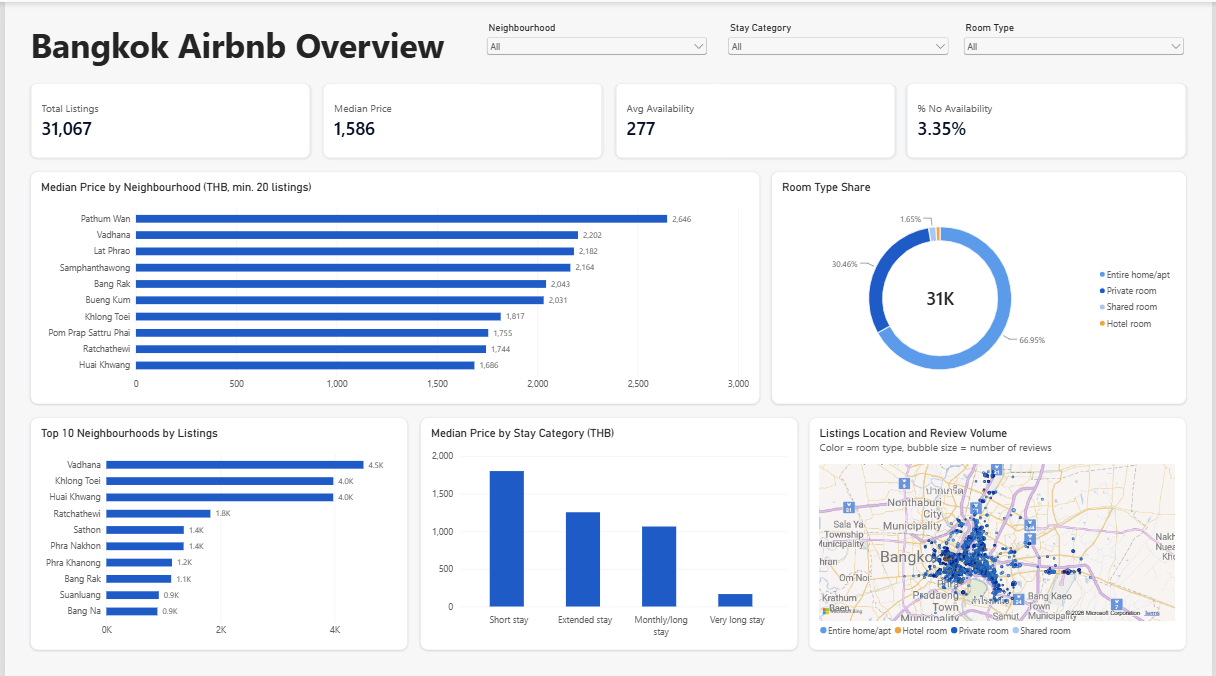

The dashboard page shown, as its layout file describes it:
{"tool":"powerbi","page":{"name":"Page 1","canvas":[1920,1080],"ordinal":0},"visuals":[{"type":"cardVisual","fields":{"Data":["listings_clean.Total Listings (card)"]},"box":[40,130,445,120],"z":0},{"type":"cardVisual","fields":{"Data":["listings_clean.Median Price (card)"]},"box":[505,130,445,120],"z":1000},{"type":"cardVisual","fields":{"Data":["listings_clean.Avg Availability (card)"]},"box":[970,130,445,120],"z":2000},{"type":"cardVisual","fields":{"Data":["listings_clean.% No Availability"]},"box":[1435,130,445,120],"z":3000},{"type":"slicer","fields":{"Values":["listings_clean.neighbourhood"]},"box":[760,30,360,70],"z":4000},{"type":"slicer","fields":{"Values":["listings_clean.stay_category"]},"box":[1145.2,31,360.3,70],"z":5000},{"type":"slicer","fields":{"Values":["listings_clean.room_type"]},"box":[1519.8,31,360.3,70],"z":6000},{"type":"clusteredBarChart","title":"Median Price by Neighbourhood (THB, min. 20 listings)","fields":{"Category":["listings_clean.neighbourhood"],"Y":["listings_clean.Median Price (min 20)"]},"box":[40,270,1160,370],"z":7000},{"type":"clusteredBarChart","title":"Top 10 Neighbourhoods by Listings","fields":{"Category":["listings_clean.neighbourhood"],"Y":["listings_clean.Total Listings"]},"box":[40,660,600,370],"z":8000},{"type":"donutChart","title":"Room Type Share","fields":{"Category":["listings_clean.room_type"],"Y":["listings_clean.Total Listings"]},"box":[1220,270,660,370],"z":9000},{"type":"clusteredColumnChart","title":"Median Price by Stay Category (THB)","fields":{"Category":["listings_clean.stay_category"],"Y":["listings_clean.Median Price"]},"box":[660,660,600,370],"z":10000},{"type":"map","title":"Listings Location and Review Volume","fields":{"Series":["listings_clean.room_type"],"Size":["Sum(listings_clean.number_of_reviews)"],"X":["listings_clean.longitude"],"Y":["listings_clean.latitude"]},"box":[1280,660,600,370],"z":11000},{"type":"textbox","box":[39.7,31.2,703,90.7],"z":12000}]}

Visuals, with their boxes in screenshot pixels (x1, y1, x2, y2), scaled from the page's 1920x1080 canvas onto the 1216x676 screenshot:
cardVisual - listings_clean.Total Listings (card): [25,81,307,156]
cardVisual - listings_clean.Median Price (card): [320,81,602,156]
cardVisual - listings_clean.Avg Availability (card): [614,81,896,156]
cardVisual - listings_clean.% No Availability: [909,81,1191,156]
slicer - listings_clean.neighbourhood: [481,19,709,63]
slicer - listings_clean.stay_category: [725,19,953,63]
slicer - listings_clean.room_type: [963,19,1191,63]
"Median Price by Neighbourhood (THB, min. 20 listings)" clusteredBarChart: [25,169,760,401]
"Top 10 Neighbourhoods by Listings" clusteredBarChart: [25,413,405,645]
"Room Type Share" donutChart: [773,169,1191,401]
"Median Price by Stay Category (THB)" clusteredColumnChart: [418,413,798,645]
"Listings Location and Review Volume" map: [811,413,1191,645]
textbox: [25,20,470,76]
